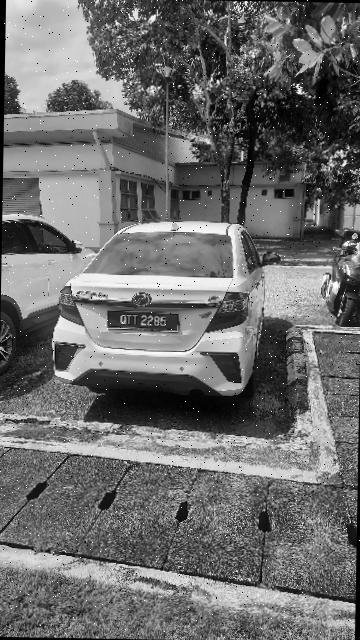License_Plate: (105, 309, 184, 336)
car: (50, 207, 283, 400)
